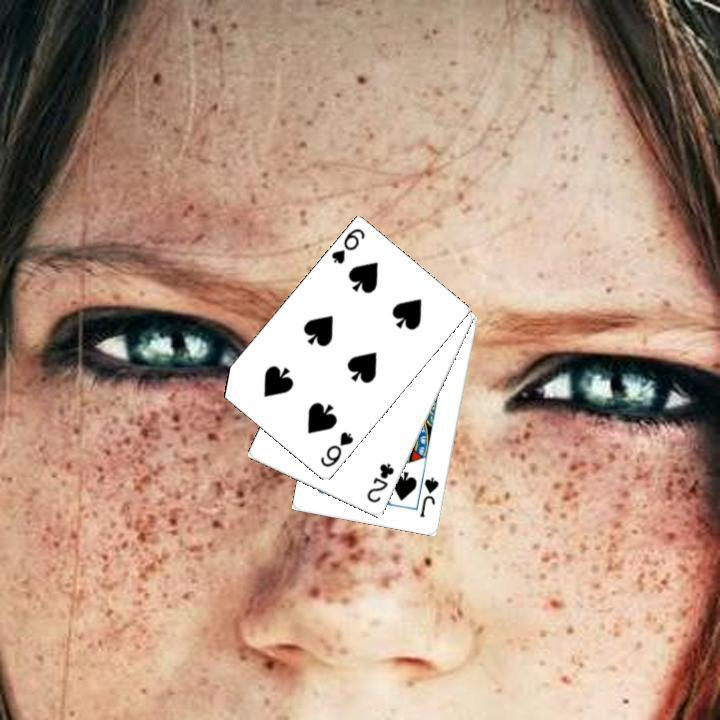2: (362, 459, 396, 505)
6: (327, 224, 367, 266), (316, 427, 355, 470)
J: (416, 473, 441, 519)
